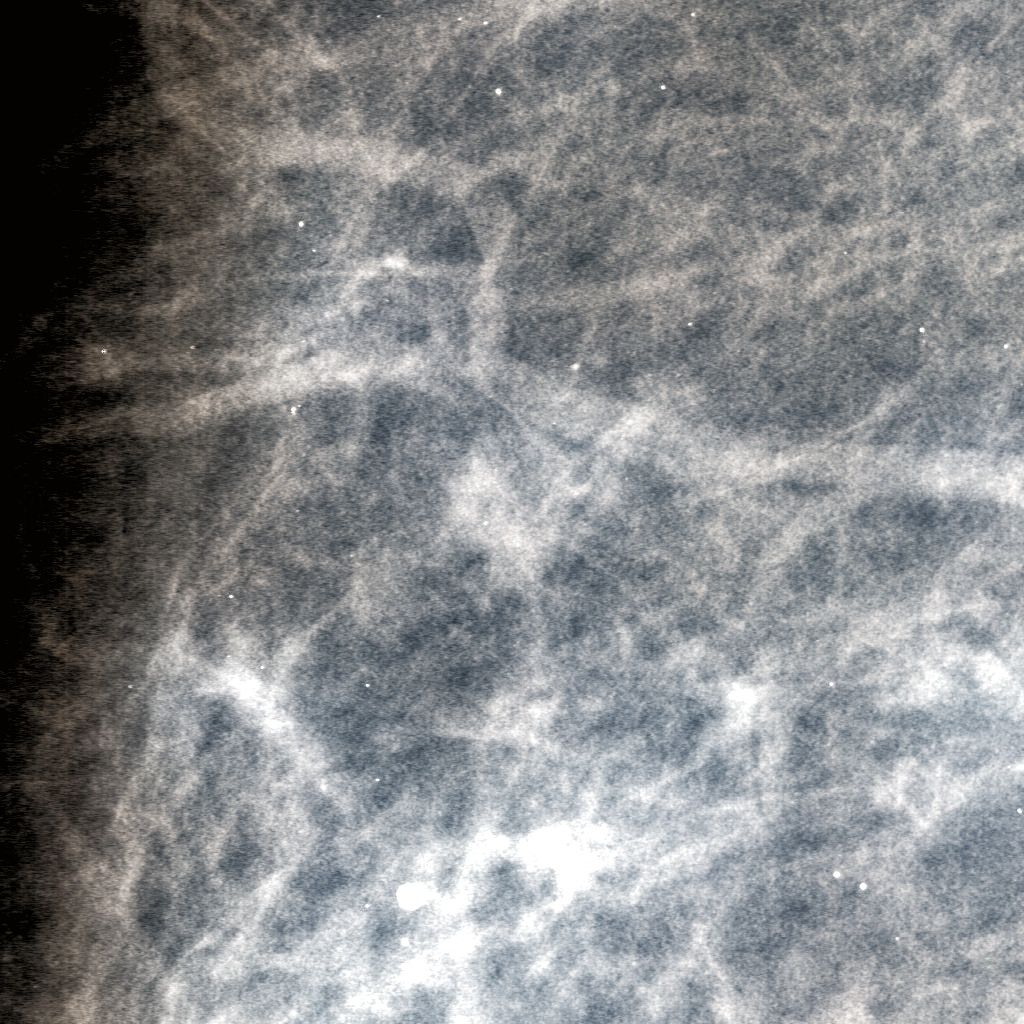tumor: (425, 425, 599, 599)
